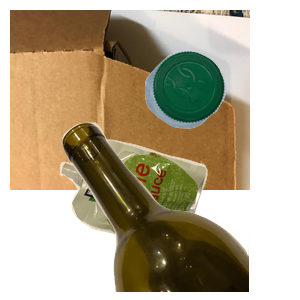cardboard: (10, 10, 250, 190)
glass: (60, 120, 300, 300)
plastic: (142, 48, 300, 169)
trash: (57, 137, 257, 300)
